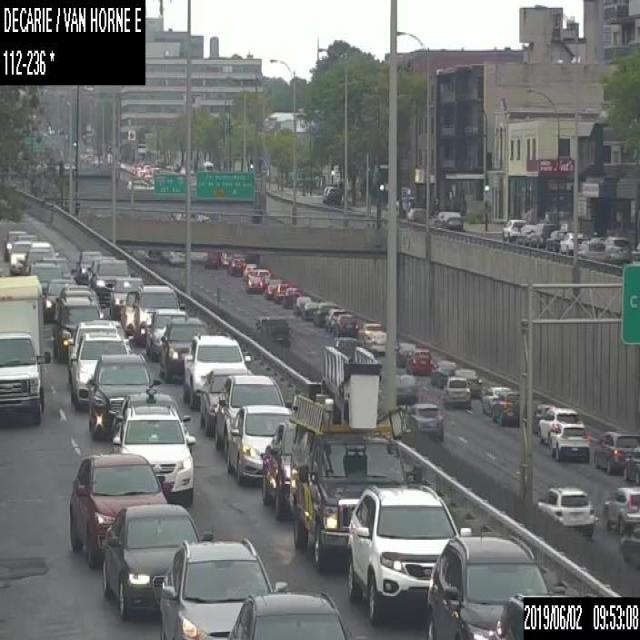vehicle: (287, 338, 423, 568), (345, 483, 471, 621), (426, 534, 566, 638), (160, 538, 287, 638), (102, 503, 211, 619), (68, 453, 167, 566), (111, 405, 195, 503), (0, 273, 50, 423), (86, 353, 163, 437), (226, 592, 365, 638), (215, 375, 287, 460), (226, 404, 294, 482), (182, 333, 250, 410), (110, 383, 190, 447), (68, 332, 130, 412), (499, 593, 591, 638), (67, 320, 118, 400), (199, 368, 251, 437), (260, 422, 294, 520), (159, 316, 207, 382), (537, 486, 595, 540), (134, 284, 184, 346), (52, 296, 98, 360), (144, 307, 189, 362), (593, 428, 639, 474), (537, 404, 584, 444), (548, 422, 590, 462), (602, 486, 639, 531), (41, 277, 76, 321), (94, 259, 128, 303), (408, 402, 443, 442), (108, 277, 142, 318), (489, 390, 527, 426), (256, 315, 291, 348), (616, 522, 639, 571), (29, 261, 61, 295), (19, 248, 58, 273), (356, 321, 385, 353), (74, 249, 101, 283), (443, 375, 470, 409), (54, 283, 89, 309), (85, 256, 115, 286), (480, 385, 510, 415), (604, 235, 632, 265), (119, 289, 136, 336), (454, 366, 481, 394), (531, 400, 553, 434), (404, 348, 432, 374), (394, 372, 418, 402), (558, 231, 588, 255), (8, 241, 31, 272), (430, 359, 456, 386), (5, 229, 27, 259), (530, 222, 555, 247), (394, 341, 418, 367), (312, 301, 336, 327), (623, 446, 639, 484), (334, 312, 358, 337), (27, 240, 57, 258), (501, 218, 525, 240), (544, 230, 566, 251), (324, 308, 344, 330), (272, 282, 291, 303), (515, 223, 534, 244), (282, 286, 300, 308), (407, 206, 428, 224), (59, 289, 92, 300), (444, 210, 462, 230), (292, 295, 310, 314), (322, 184, 340, 203), (228, 253, 244, 274), (300, 300, 316, 320), (241, 262, 257, 281), (247, 276, 263, 294), (125, 179, 152, 189), (168, 249, 185, 264), (144, 248, 160, 262), (204, 253, 218, 268), (254, 268, 270, 281), (434, 210, 444, 226), (263, 284, 273, 299)
